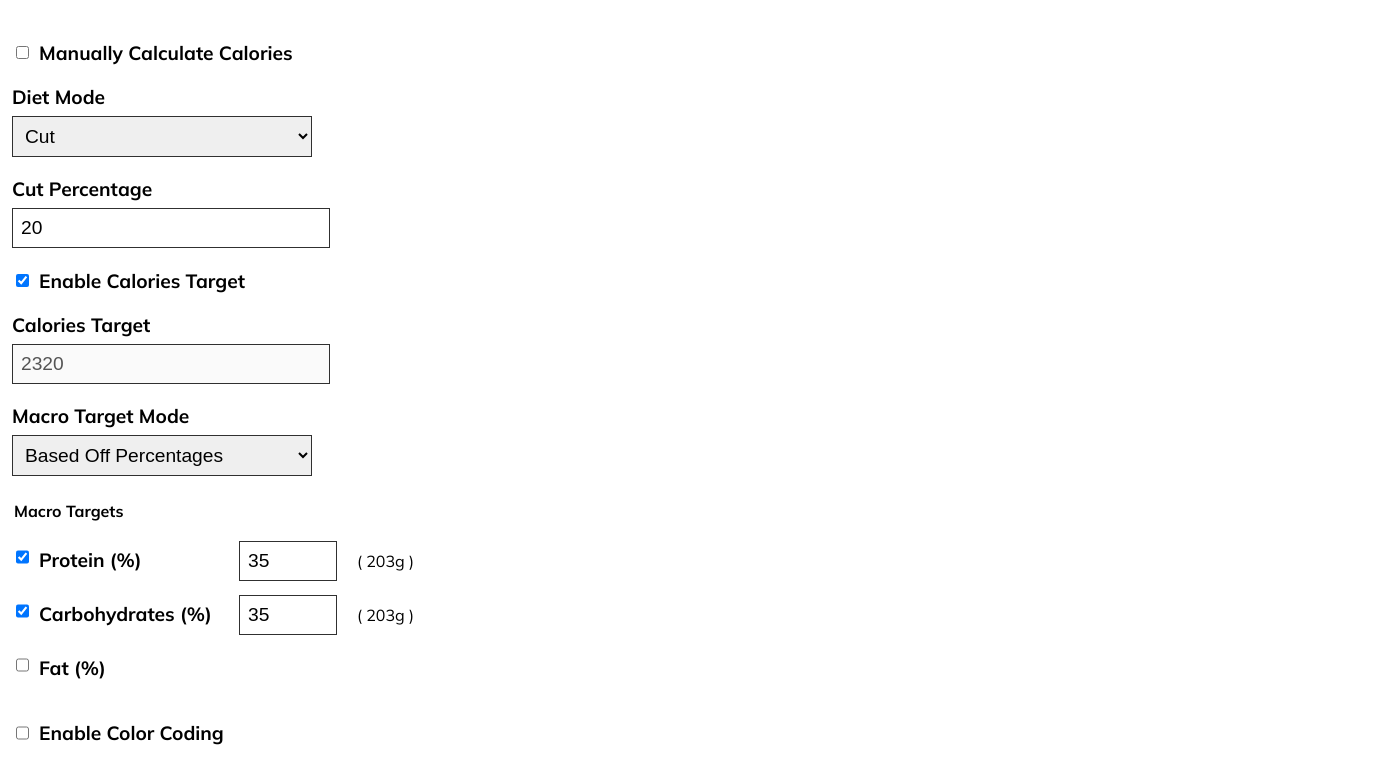
Scenario: <EditDietSettingsForm /> › it toggles the fields
What coordinates should you click on to do the following:
click the checkbox labelled "Enable Calories Target"
I would click on:
 (22, 281)
Its box is [16, 271, 29, 290].
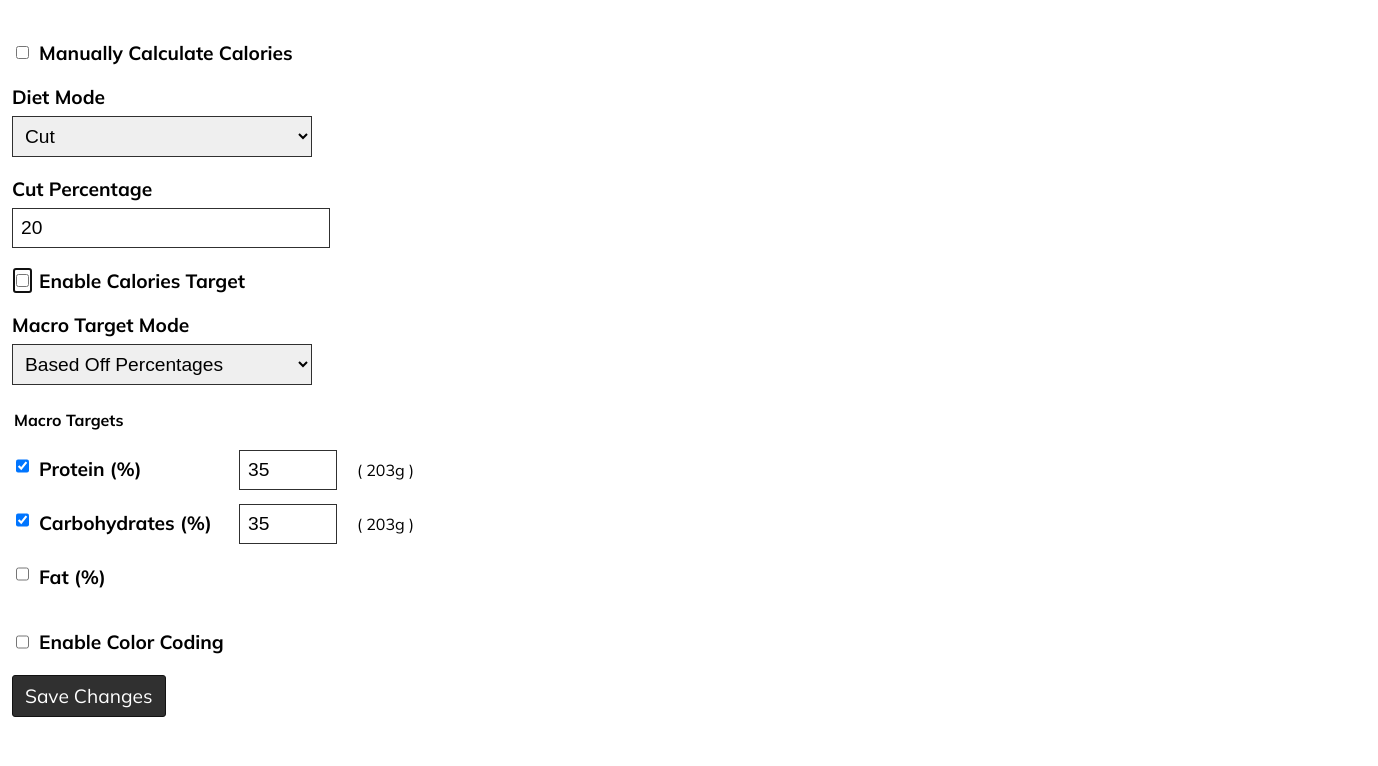
What coordinates should you click on to do the following:
click the checkbox with test id "enablefat_PERCENT"
I would click on:
 (22, 574)
Its box is [16, 553, 29, 595].
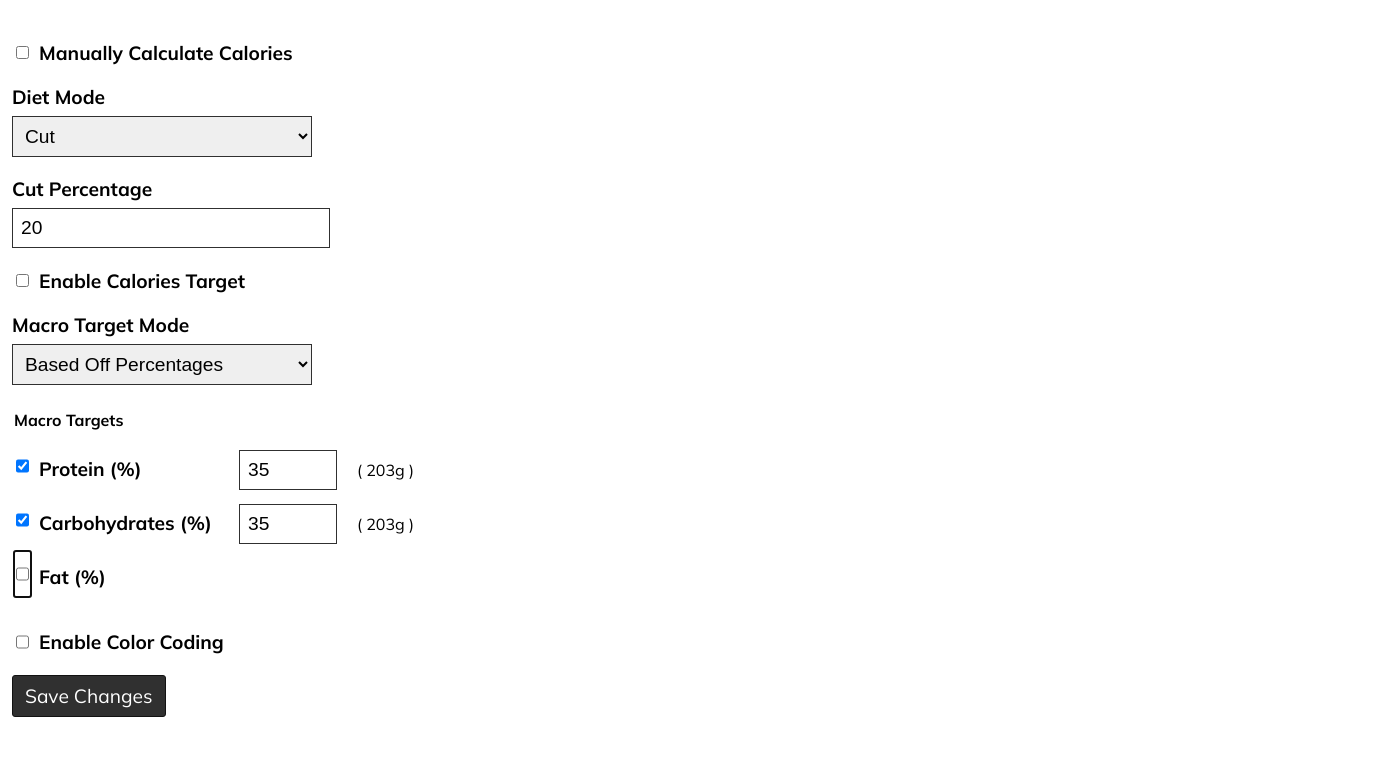
What coordinates should you click on to do the following:
click the checkbox with test id "enablecolorcoding"
I would click on:
 (22, 642)
Its box is [16, 632, 29, 652].
(page scrolled)
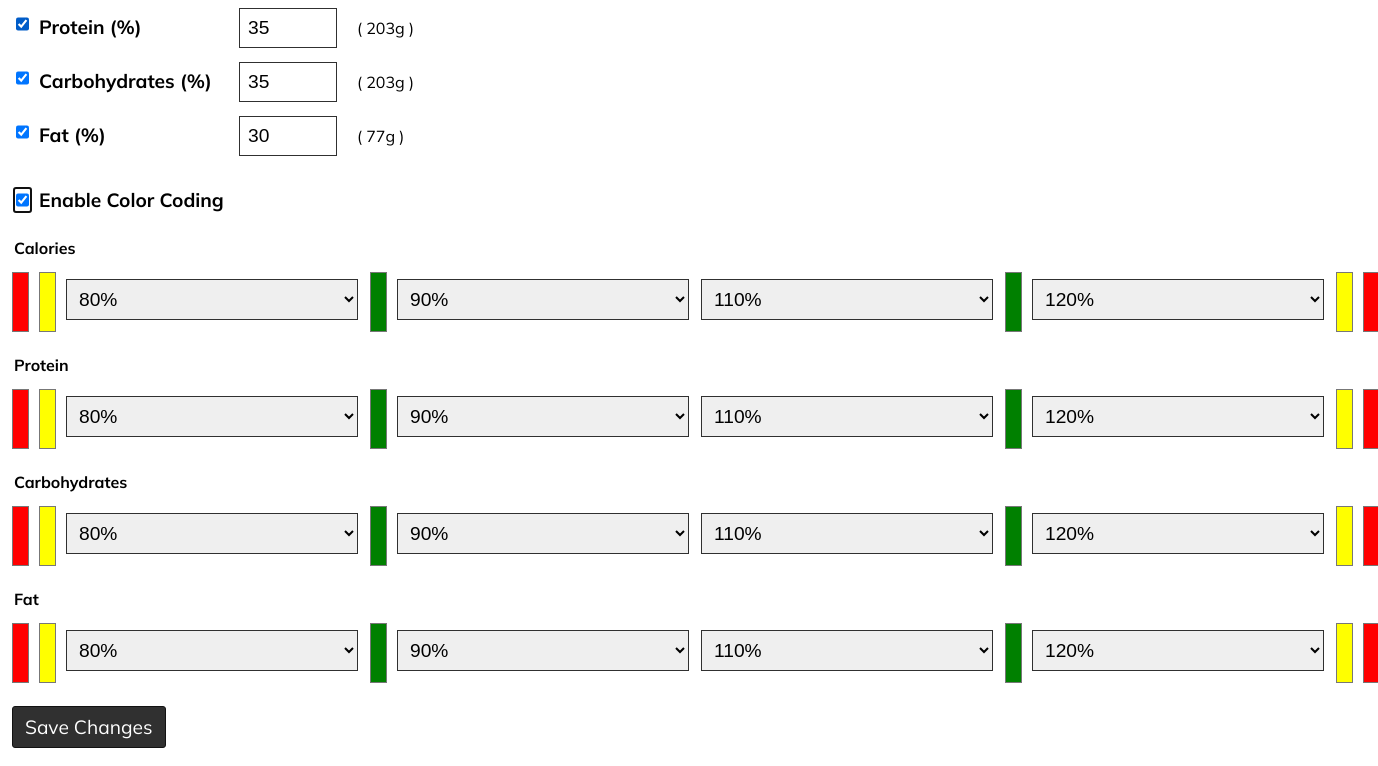
Check: the field with test id "fat_PERCENT" holds "30", box [239, 116, 337, 156]
Check: the dropdown with test id "CALORIES_yellowstart" shows "80%", box [66, 279, 358, 320]
Check: the dropdown with test id "PROTEIN_greenstart" shows "90%", box [397, 396, 689, 437]
